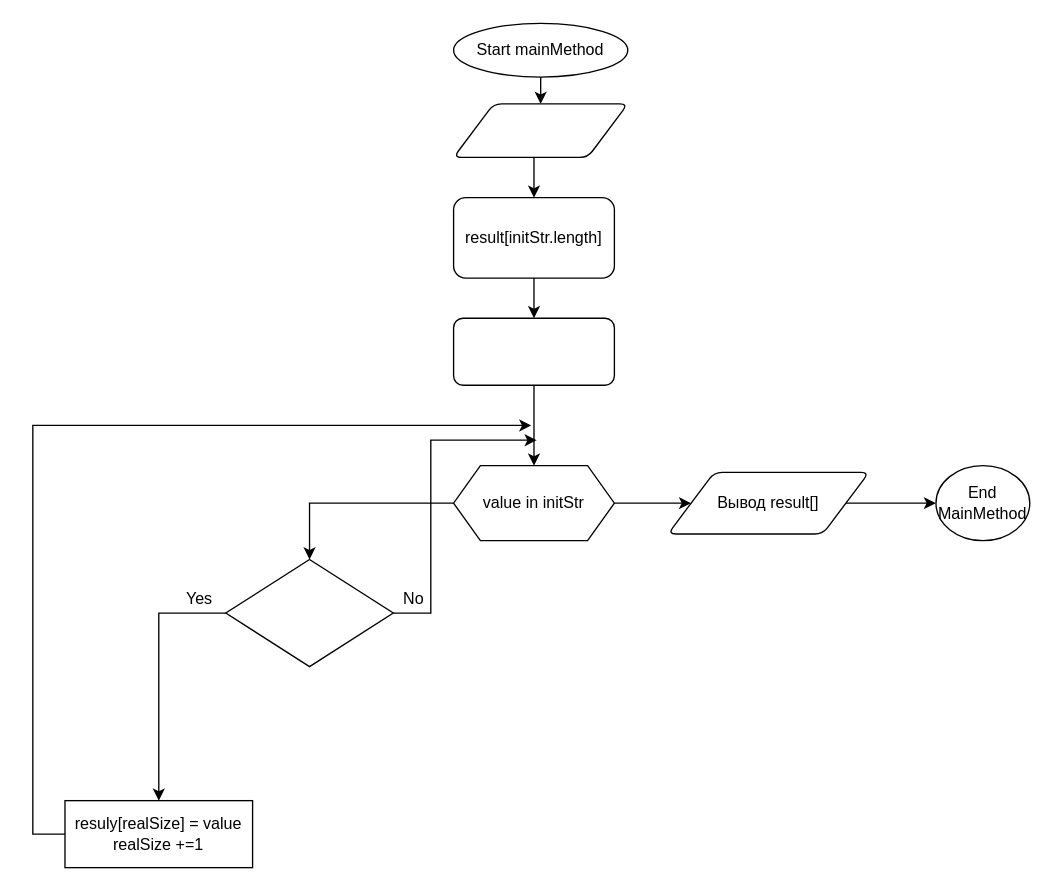
Image size: 1053x891. Some labels were removed from this diagram. Here are the shapes that lost their labels. From the top down, the centre of each, then its label:
At (540,130): "Ввод массива initStr[]".
At (533,351): "realSize = 0".
At (308,612): "if (value.length <= 3)".
